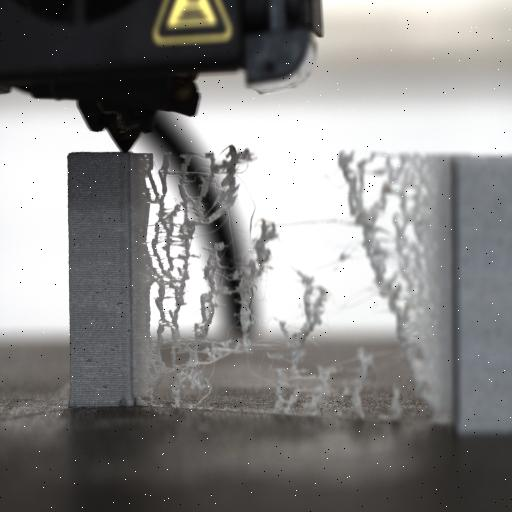stringing: (144, 140, 416, 412)
